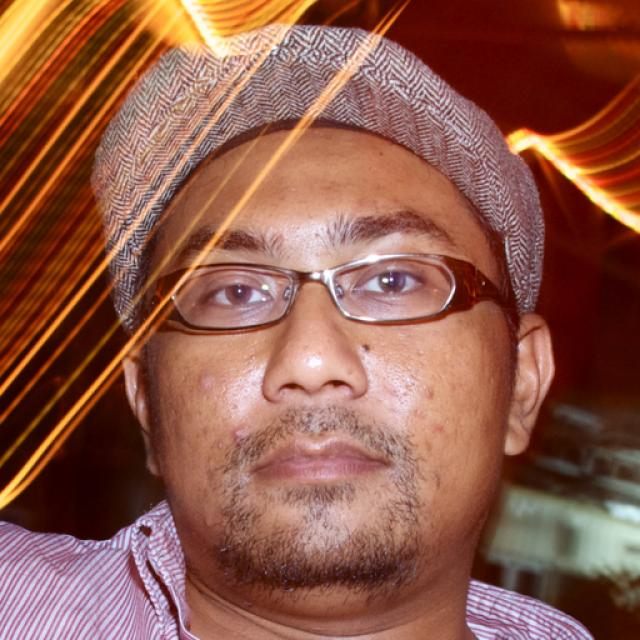Acne: (352, 335, 371, 368), (226, 420, 251, 444)
Spots: (189, 365, 218, 396), (418, 414, 447, 442), (416, 382, 446, 406)
